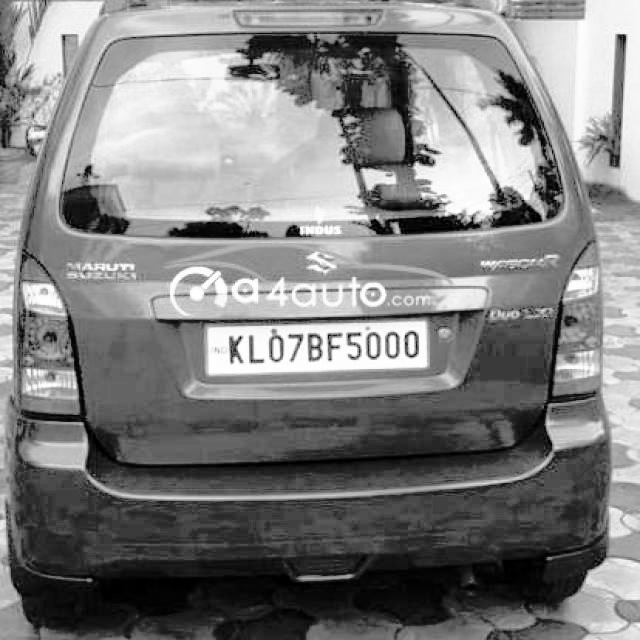Car: (3, 0, 615, 605)
